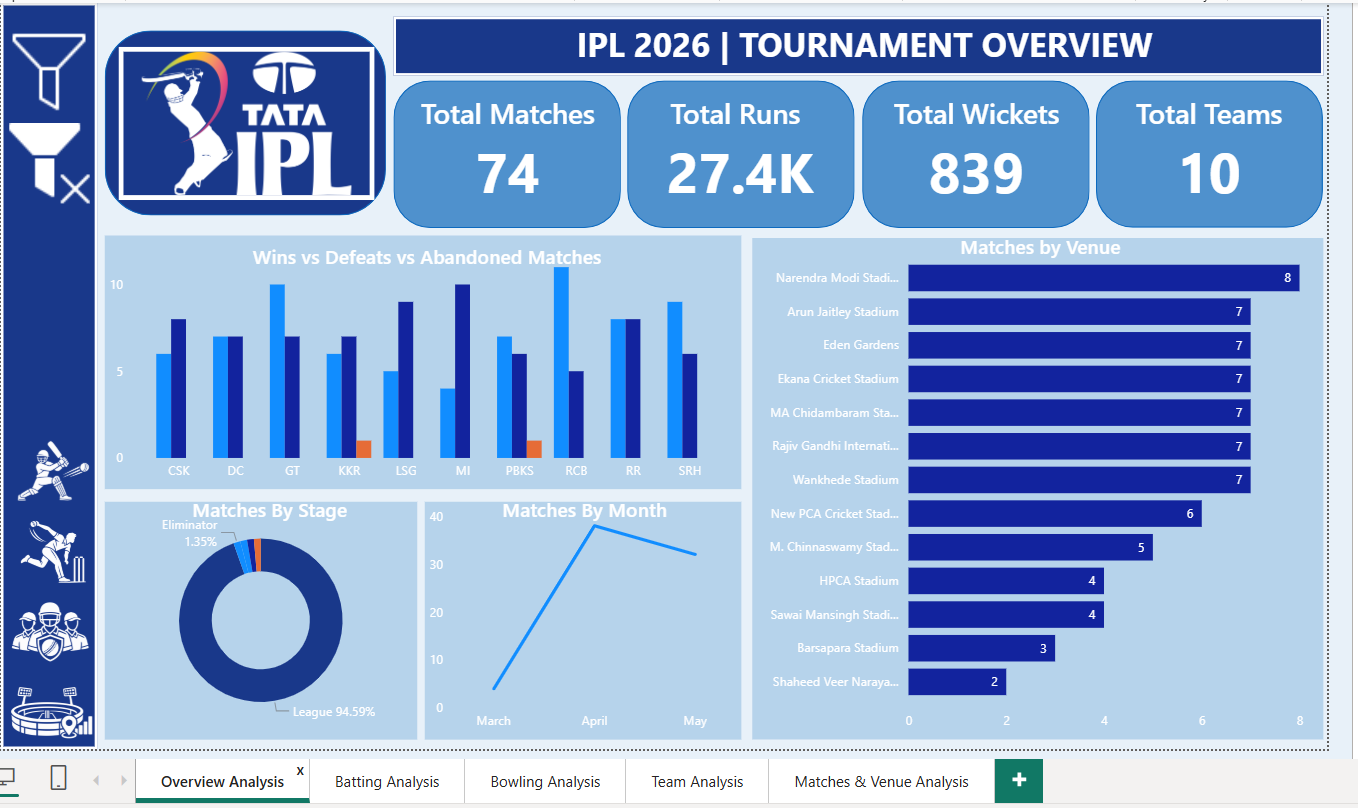

The dashboard page shown, as its layout file describes it:
{"tool":"powerbi","page":{"name":"Overview Analysis","canvas":[1280,720],"ordinal":0},"visuals":[{"type":"textbox","box":[0,0,92.9,720.2],"z":0},{"type":"shape","box":[0,0,215.7,720.7],"z":0,"group":"g2"},{"type":"textbox","box":[378.8,13.3,897.6,56.7],"z":1000},{"type":"slicer","fields":{"Values":["dim_team.team_code"]},"box":[9.7,106.2,196.6,88.1],"z":1000,"group":"g2"},{"type":"textbox","box":[436.7,13.3,793.8,56.7],"z":2000},{"type":"slicer","fields":{"Values":["matches.stage"]},"box":[11.3,205.1,195.4,88.1],"z":2000,"group":"g2"},{"type":"shape","box":[100.1,26.5,271.4,178.6],"z":3000},{"type":"slicer","fields":{"Values":["venue_mapping.venue_stadium"]},"box":[10.9,304.7,196.2,87.7],"z":3000,"group":"g2"},{"type":"image","box":[113.4,42.2,247.3,148.4],"z":4000},{"type":"slicer","fields":{"Values":["Date_Table.Month Name"]},"box":[10.9,406.3,196.2,87.7],"z":4000,"group":"g2"},{"type":"image","box":[116.9,13.9,90.4,76.5],"z":5000,"group":"g2"},{"type":"shape","box":[378.8,74.8,219.6,142.4],"z":5000},{"type":"shape","box":[604.8,74.8,219.6,142.4],"z":6000},{"type":"shape","box":[830.8,74.8,219.6,142.4],"z":7000},{"type":"shape","box":[1056.8,74.8,219,142],"z":8000},{"type":"card","fields":{"Values":["Measures_Table.Total_Matches"]},"box":[389.7,117,199.1,88.1],"z":9000},{"type":"textbox","box":[389.7,83.2,199.1,45.8],"z":10000},{"type":"card","fields":{"Values":["Measures_Table.Total_Runs"]},"box":[614.1,117,199.1,88.1],"z":11000},{"type":"textbox","box":[604.4,83.2,208.7,45.8],"z":12000},{"type":"card","fields":{"Values":["Measures_Table.Total_Wickets"]},"box":[842.1,117,199.1,88.1],"z":13000},{"type":"textbox","box":[842.1,83.2,199.1,45.8],"z":14000},{"type":"card","fields":{"Values":["Measures_Table.Total_Teams"]},"box":[1066.5,117,199.1,88.1],"z":15000},{"type":"textbox","box":[1066.5,83.2,199.1,45.8],"z":16000},{"type":"clusteredColumnChart","fields":{"Category":["dim_team.team_code"],"Y":["Measures_Table.Team Wins","Measures_Table.Team Losses","Measures_Table.Team No Result"]},"box":[100.1,224.4,614.1,244.9],"z":17000},{"type":"clusteredBarChart","fields":{"Y":["CountNonNull(matches.match_id)"],"Category":["matches.VenueName"]},"box":[725.1,226.8,551.3,483.8],"z":18000},{"type":"donutChart","fields":{"Y":["CountNonNull(matches.match_id)"],"Category":["matches.stage"]},"box":[100.1,481.4,301.6,229.2],"z":19000},{"type":"textbox","box":[113.4,226.8,600.8,39.8],"z":20000},{"type":"textbox","box":[117,471.7,284.7,43.4],"z":21000},{"type":"textbox","box":[775.7,217.2,454.8,49.5],"z":22000},{"type":"lineChart","fields":{"Category":["Date_Table.Month Name"],"Y":["Measures_Table.Total_Matches"]},"box":[409,481.4,305.2,229.2],"z":23000},{"type":"textbox","box":[401.7,471.7,323.3,43.4],"z":24000},{"type":"image","box":[0,115.5,93.2,77.9],"z":25000},{"type":"image","box":[3.6,492.2,92.9,72.4],"z":26250,"group":"g1"},{"type":"image","box":[1.2,647.6,92.9,72.4],"z":26375,"group":"g1"},{"type":"image","box":[1.2,570,92.9,72.4],"z":26437,"group":"g1"},{"type":"group","id":"g1","title":"Nav Images","box":[1.2,414.4,95.3,305.6],"z":26500},{"type":"image","box":[2.4,414.4,92.9,72.4],"z":26500,"group":"g1"},{"type":"shape","title":"BlackScreen","box":[206.3,0,1073.7,720.2],"z":27000},{"type":"group","id":"g2","title":"Slicer tab","box":[0,0,215.7,720.7],"z":28000}]}

Visuals, with their boxes on the page's 1280x720 design canvas (x1, y1, x2, y2). These are canvas units, not pixel positions in the 1358x808 screenshot, which may show the page scaled, cropped or inside an application window:
textbox: <box>0,0,93,720</box>
shape: <box>0,0,216,721</box>
textbox: <box>379,13,1276,70</box>
slicer - dim_team.team_code: <box>10,106,206,194</box>
textbox: <box>437,13,1230,70</box>
slicer - matches.stage: <box>11,205,207,293</box>
shape: <box>100,26,372,205</box>
slicer - venue_mapping.venue_stadium: <box>11,305,207,392</box>
image: <box>113,42,361,191</box>
slicer - Date_Table.Month Name: <box>11,406,207,494</box>
image: <box>117,14,207,90</box>
shape: <box>379,75,598,217</box>
shape: <box>605,75,824,217</box>
shape: <box>831,75,1050,217</box>
shape: <box>1057,75,1276,217</box>
card - Measures_Table.Total_Matches: <box>390,117,589,205</box>
textbox: <box>390,83,589,129</box>
card - Measures_Table.Total_Runs: <box>614,117,813,205</box>
textbox: <box>604,83,813,129</box>
card - Measures_Table.Total_Wickets: <box>842,117,1041,205</box>
textbox: <box>842,83,1041,129</box>
card - Measures_Table.Total_Teams: <box>1066,117,1266,205</box>
textbox: <box>1066,83,1266,129</box>
clusteredColumnChart - dim_team.team_code x Measures_Table.Team Wins: <box>100,224,714,469</box>
clusteredBarChart - CountNonNull(matches.match_id) x matches.VenueName: <box>725,227,1276,711</box>
donutChart - CountNonNull(matches.match_id) x matches.stage: <box>100,481,402,711</box>
textbox: <box>113,227,714,267</box>
textbox: <box>117,472,402,515</box>
textbox: <box>776,217,1230,267</box>
lineChart - Date_Table.Month Name x Measures_Table.Total_Matches: <box>409,481,714,711</box>
textbox: <box>402,472,725,515</box>
image: <box>0,116,93,193</box>
image: <box>4,492,96,565</box>
image: <box>1,648,94,720</box>
image: <box>1,570,94,642</box>
"Nav Images" group: <box>1,414,96,720</box>
image: <box>2,414,95,487</box>
"BlackScreen" shape: <box>206,0,1280,720</box>
"Slicer tab" group: <box>0,0,216,721</box>
